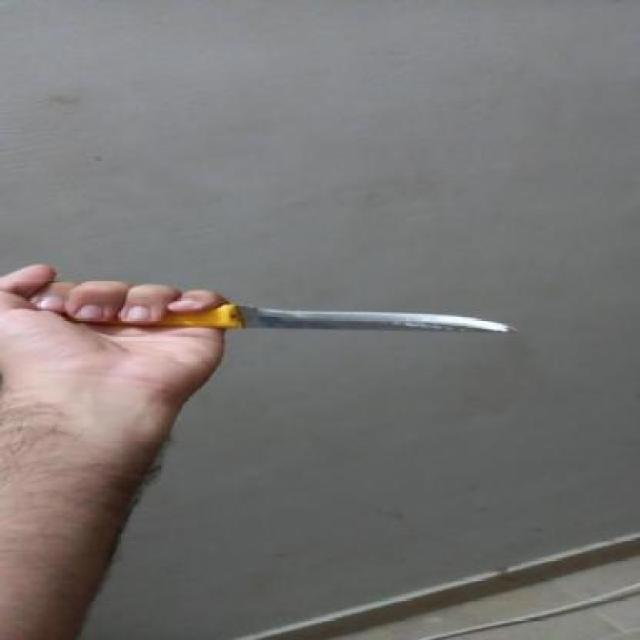knife: (110, 305, 519, 338)
